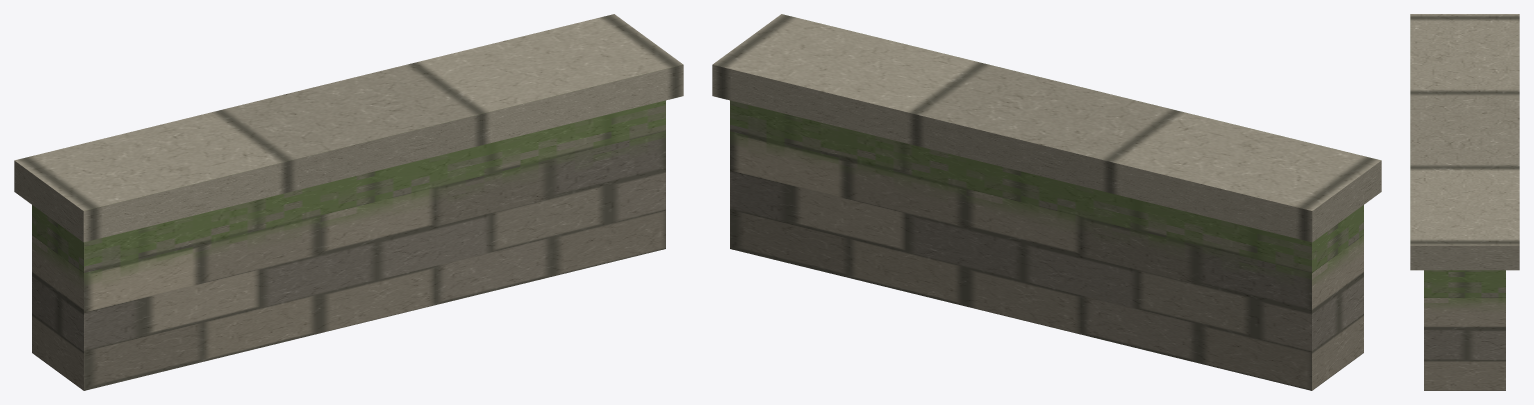
File: wall-low.glb
The picture shows the model from 3 angles, left to right: view 1: azimuth 30°, elevation 25°; view 2: azimuth 150°, elevation 25°; view 3: azimuth 270°, elevation 25°; orthographic projection. The views are drawn at different scales.
Parts seen in each view (by area): view 1: wall-low; view 2: wall-low; view 3: wall-low.
Part boxes in pixels (x1=…): wall-low: x1=14, y1=14, x2=683, y2=390; wall-low: x1=712, y1=14, x2=1381, y2=390; wall-low: x1=1410, y1=14, x2=1519, y2=390.
Bounding box in the file's own units: 2 × 0.6 × 0.4.
Materials: 1 (1 with a texture image).
